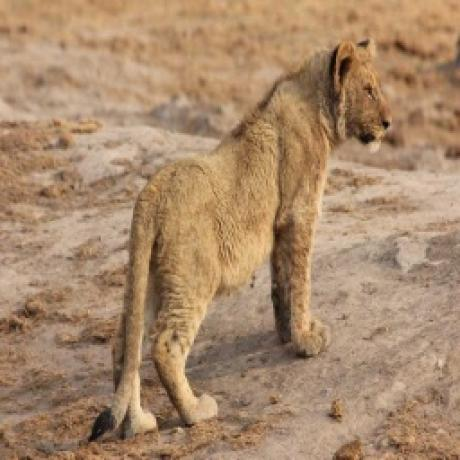Lion: (89, 35, 394, 444)
